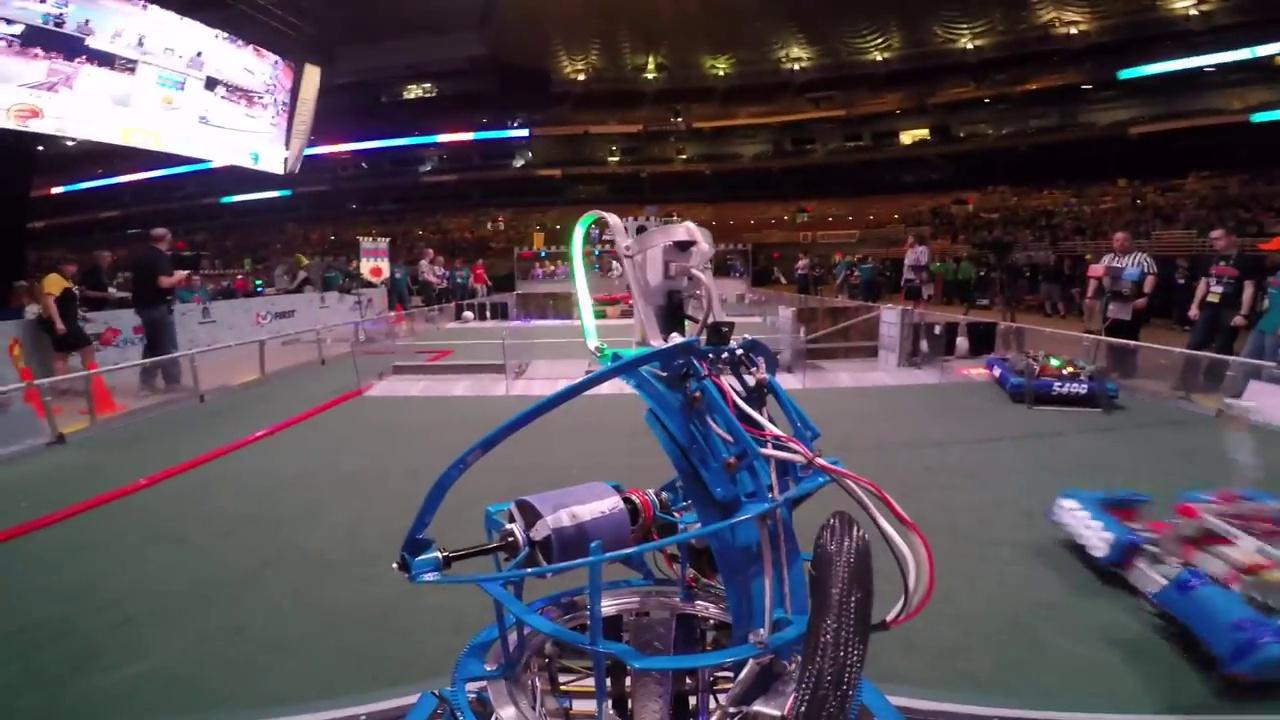robot: (1044, 481, 1280, 698), (984, 343, 1127, 414)
